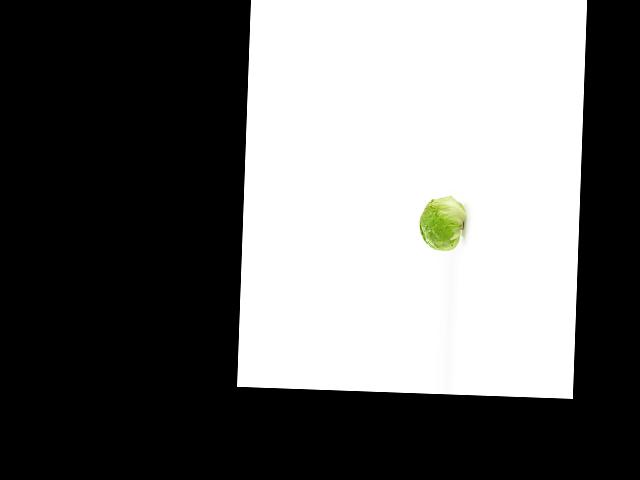lettuce: (416, 194, 463, 258)
